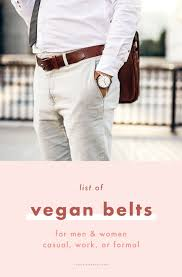F_belt: (22, 38, 134, 77)
